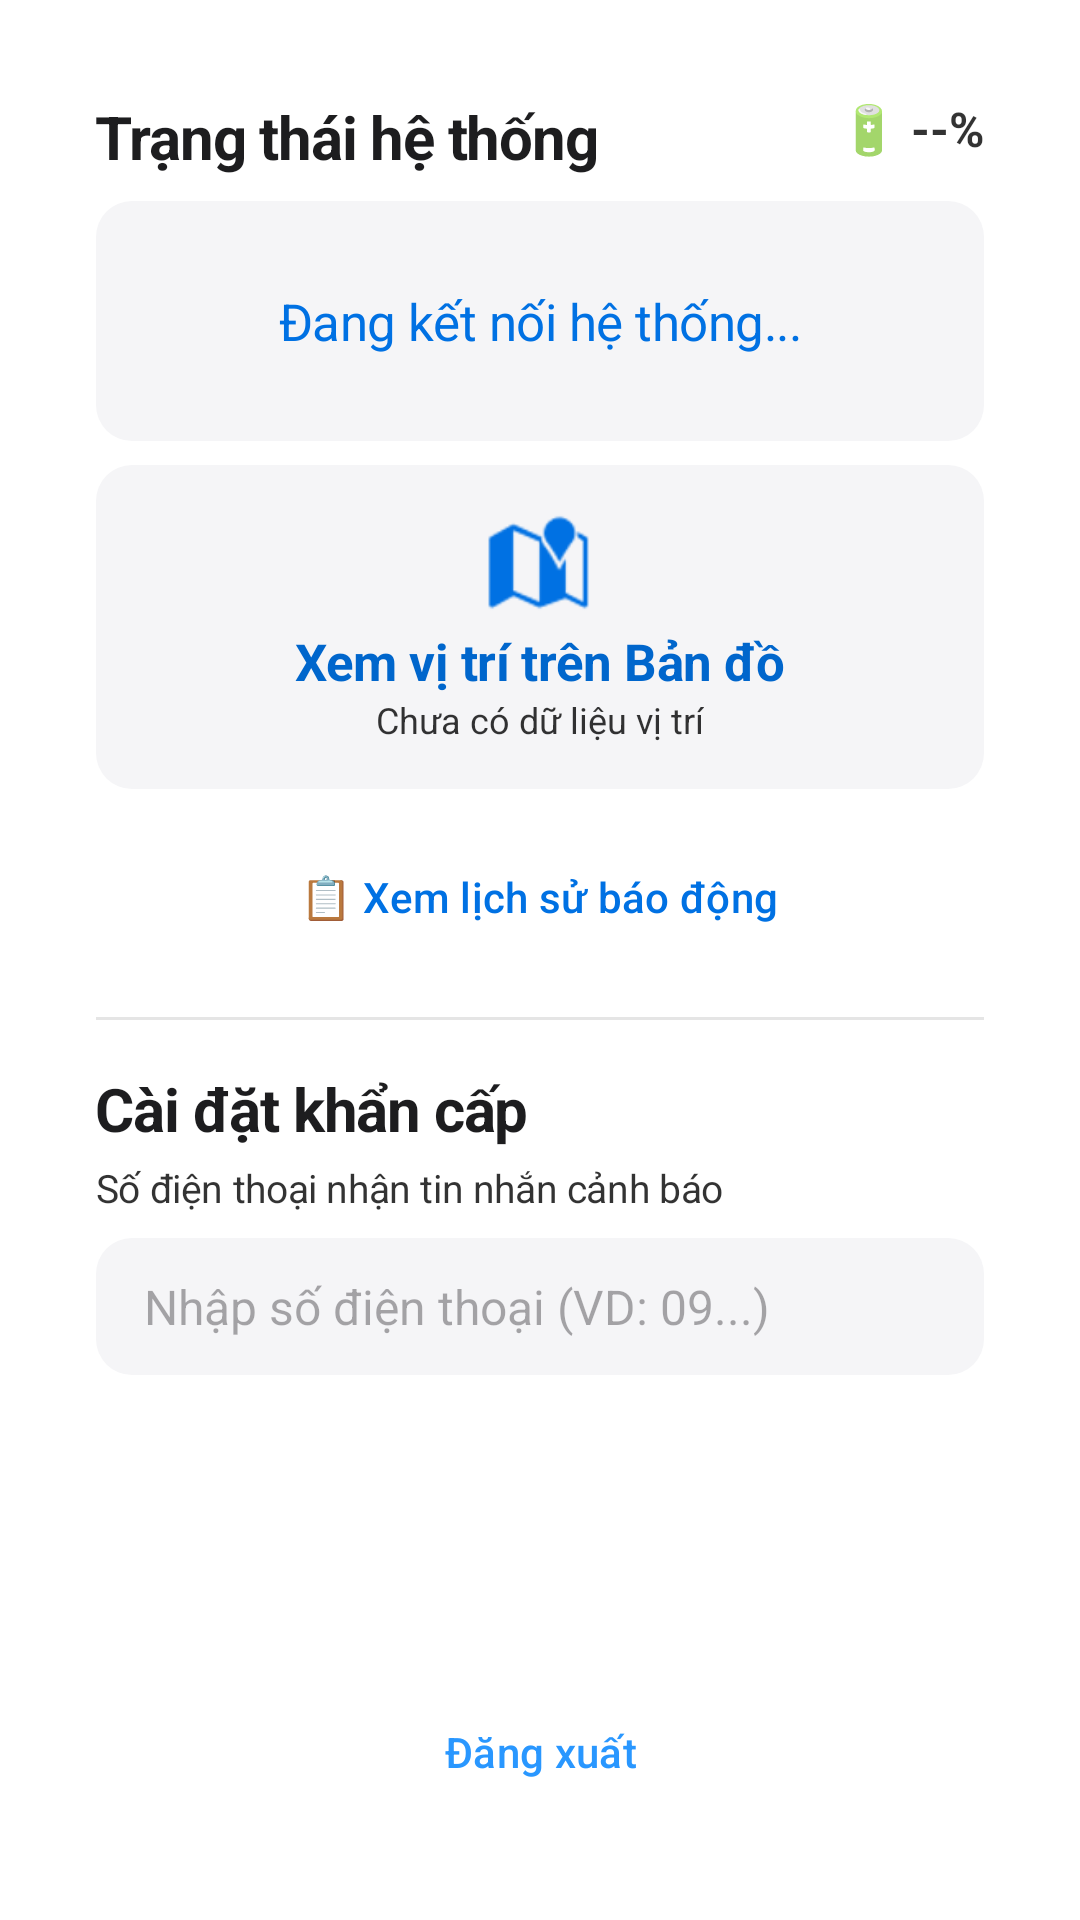

Icons on this 1080px×1920px Android screen, each with its box as (x1, y1, x2, y2):
Map Icon: (488, 516, 589, 609)
